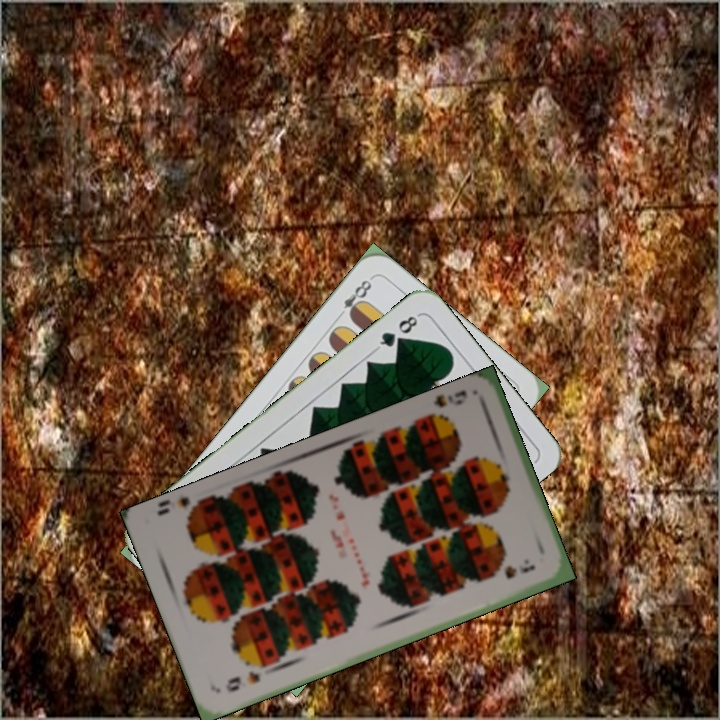E8: (332, 273, 375, 322)
G8: (372, 310, 422, 353)
S9: (421, 386, 470, 422), (221, 667, 263, 695)
